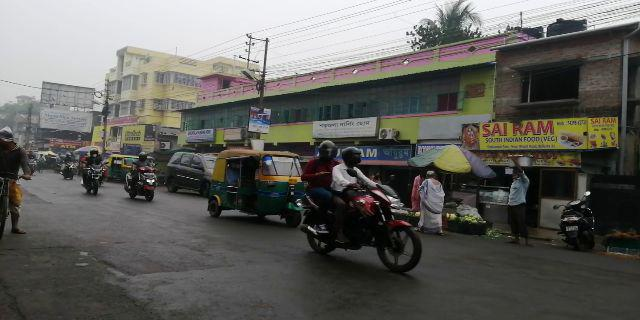Autorickshaw: (213, 149, 304, 226)
Car: (166, 150, 215, 201)
Motorbike: (296, 142, 424, 275), (126, 150, 160, 202), (78, 148, 106, 197)
